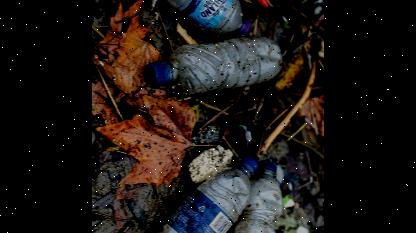Plastic Bottle: (144, 37, 283, 94), (158, 155, 259, 233), (233, 161, 283, 233), (165, 0, 251, 36)
